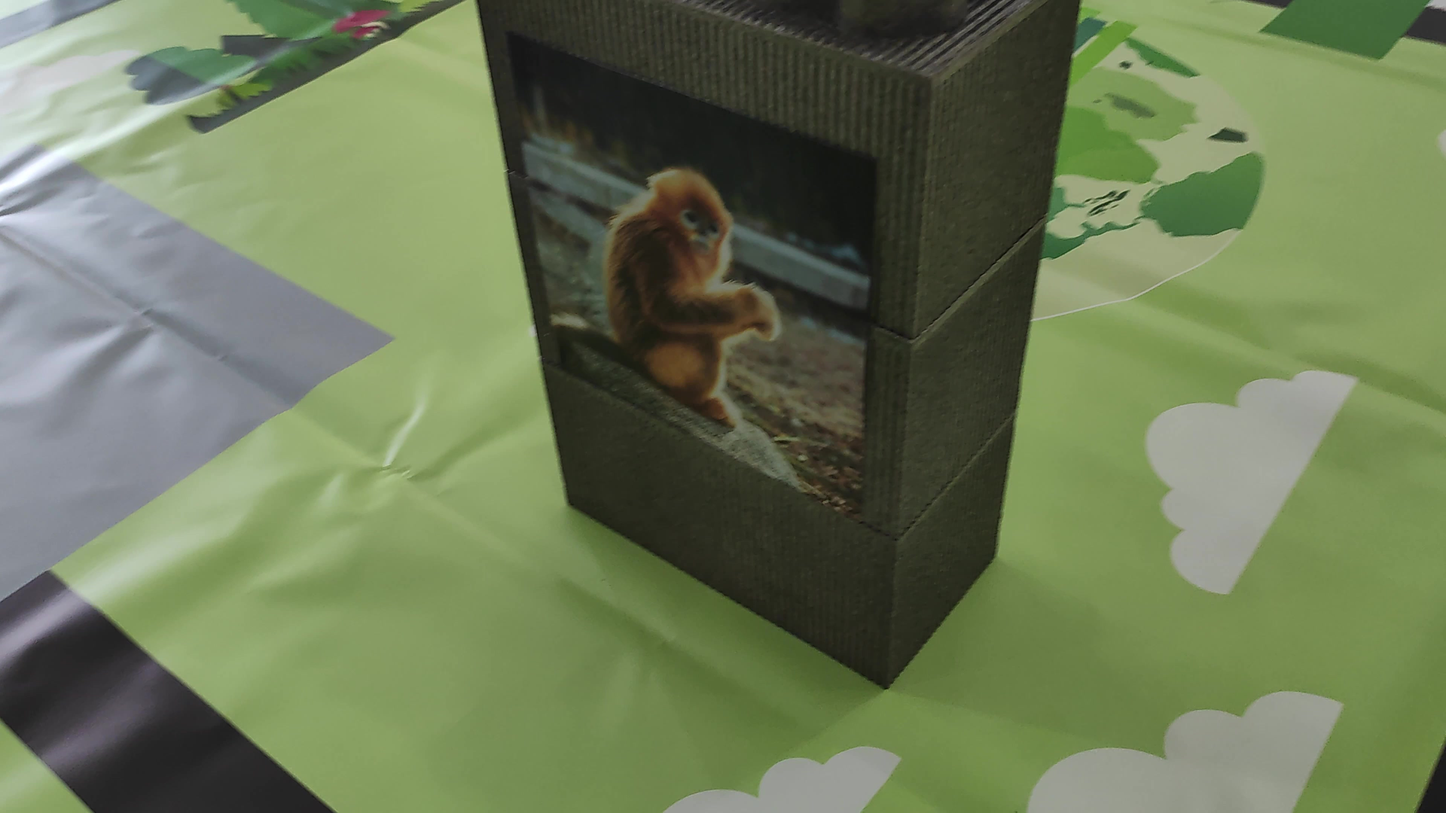monkey: (594, 138, 810, 422)
